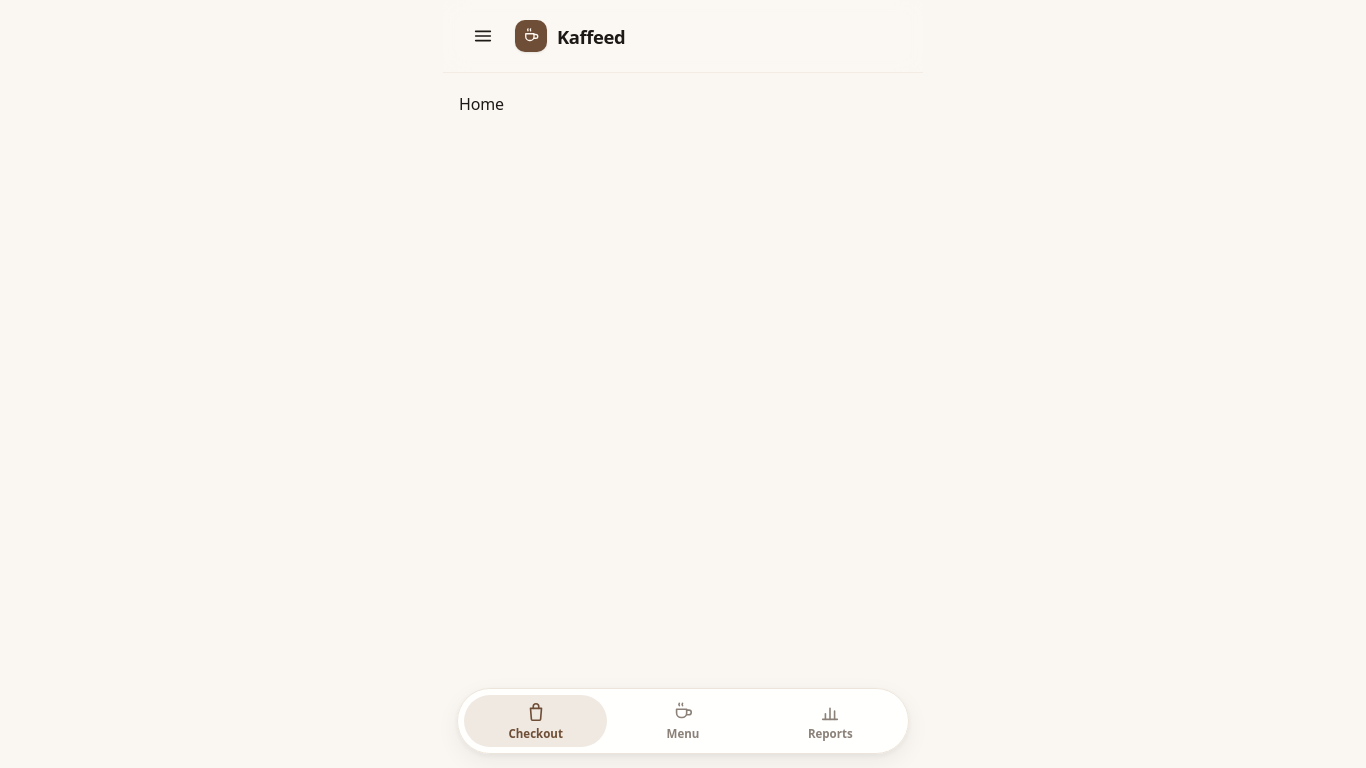
Test case: Layout admin PIN gate › prompts for a PIN when opening the admin menu
Click the button named "open admin menu": (483, 36) [463,16,503,56]
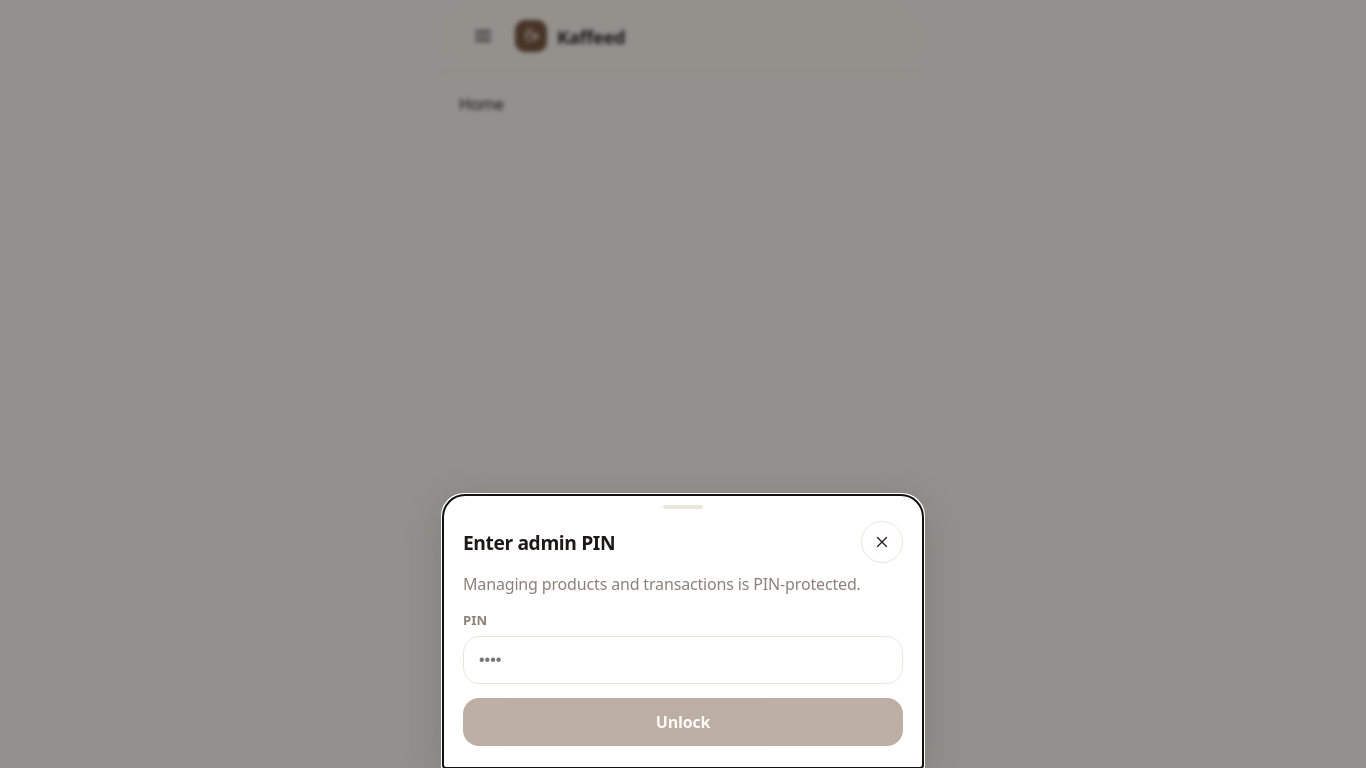
Now the dialog "Enter admin PIN" is shown, box [443,495,923,767]
